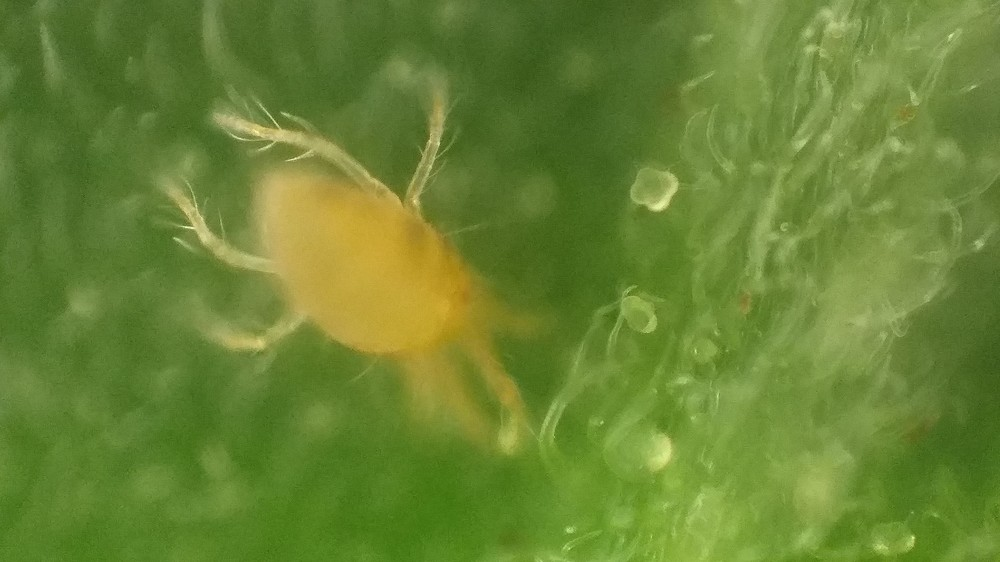Aracnido Rojo: (144, 86, 579, 459)
